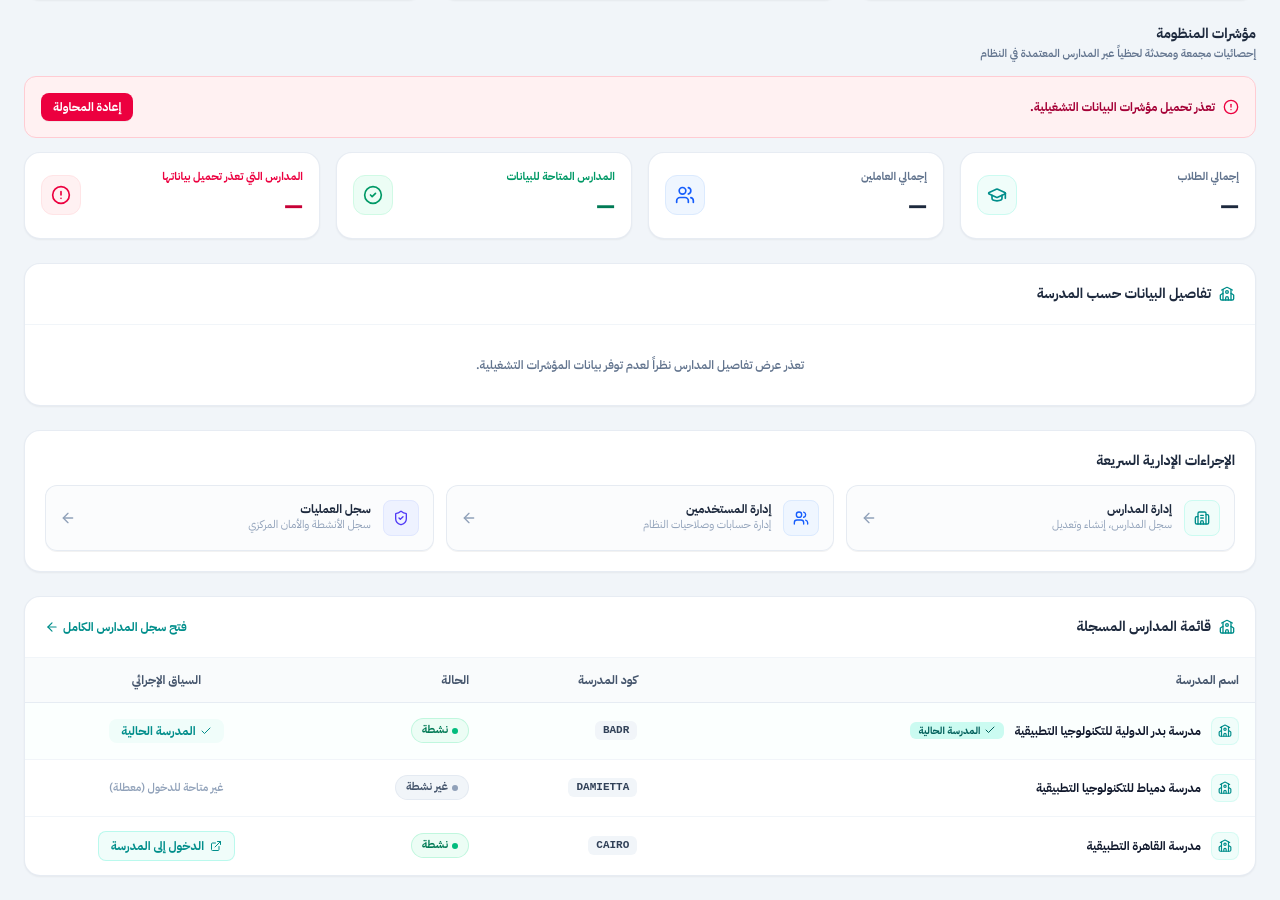
PHASE 3C-A14.3.1 — SYSTEMADMIN CENTRAL DASHBOARD SHELL › 3. Operational School Switching › Successful switch updates current school indicator without session replacement
(page scrolled)
Click the button "الدخول إلى المدرسة".
click(166, 846)  # box [98, 830, 235, 860]
(page scrolled)
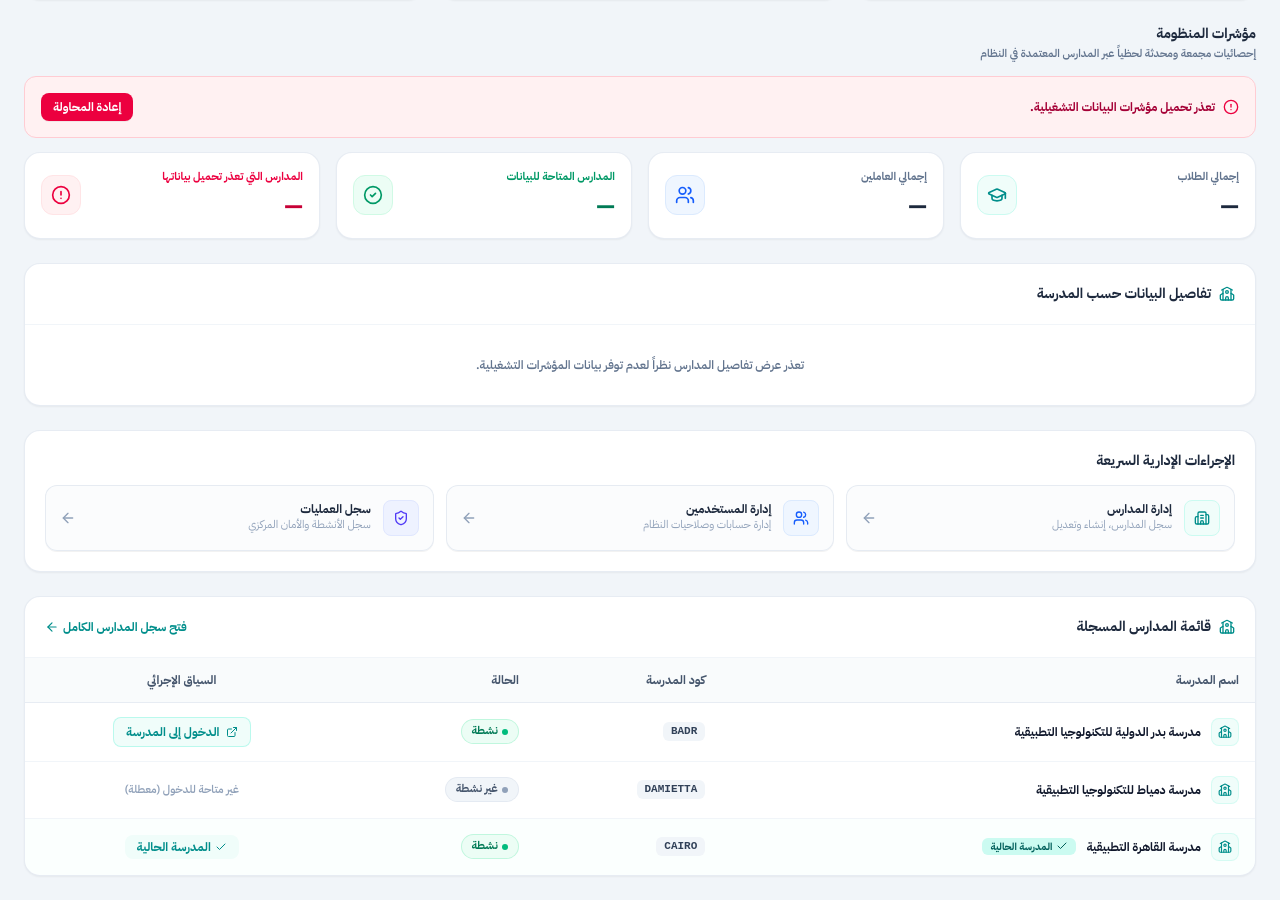
Expected: the row that starts with "مدرسة القاهرة التطبيقية" shows "المدرسة الحالية", [990, 839, 1052, 854]
